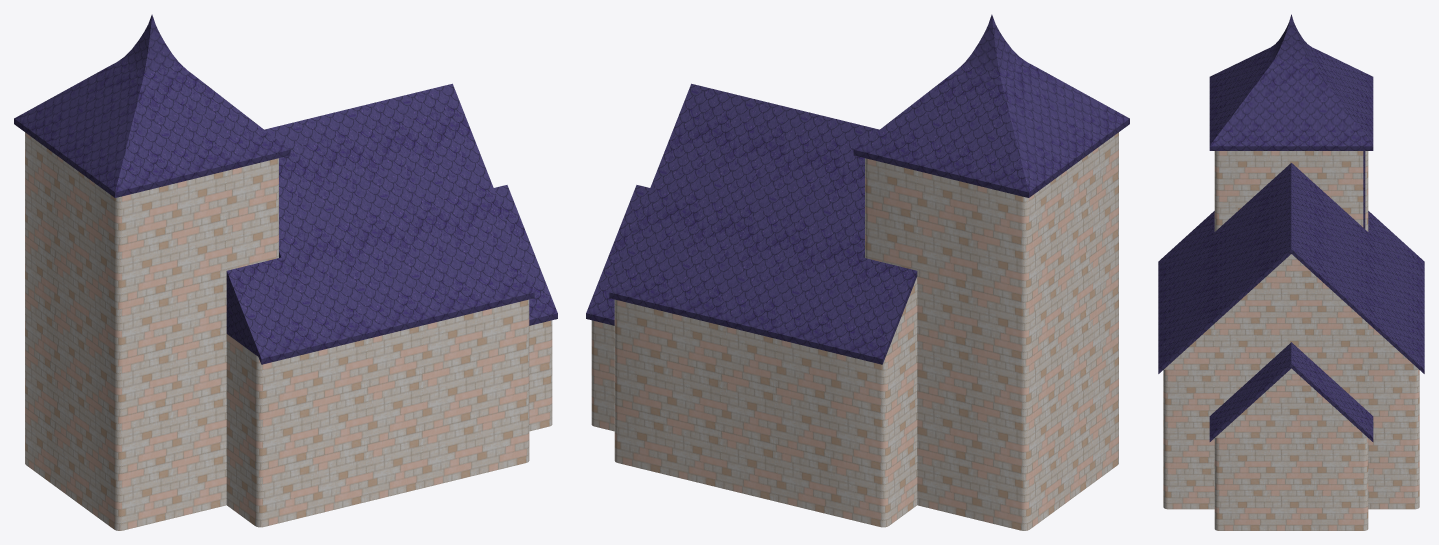
The model's file is Church.fbx.
3 views of the same model, side by side, from view 1: azimuth 30°, elevation 25°; view 2: azimuth 150°, elevation 25°; view 3: azimuth 270°, elevation 25° (orthographic). The views are drawn at different scales.
Visible parts, largest first — view 1: Church; view 2: Church; view 3: Church.
Part boxes in pixels (x1,y1,x2,y2): Church: (14,14,557,530); Church: (586,14,1129,530); Church: (1158,14,1424,530).
Size of the model in its own units: 3240 by 3240 by 2080.
